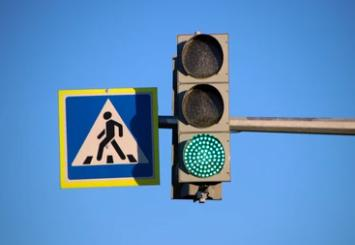green_light: (177, 33, 230, 182)
